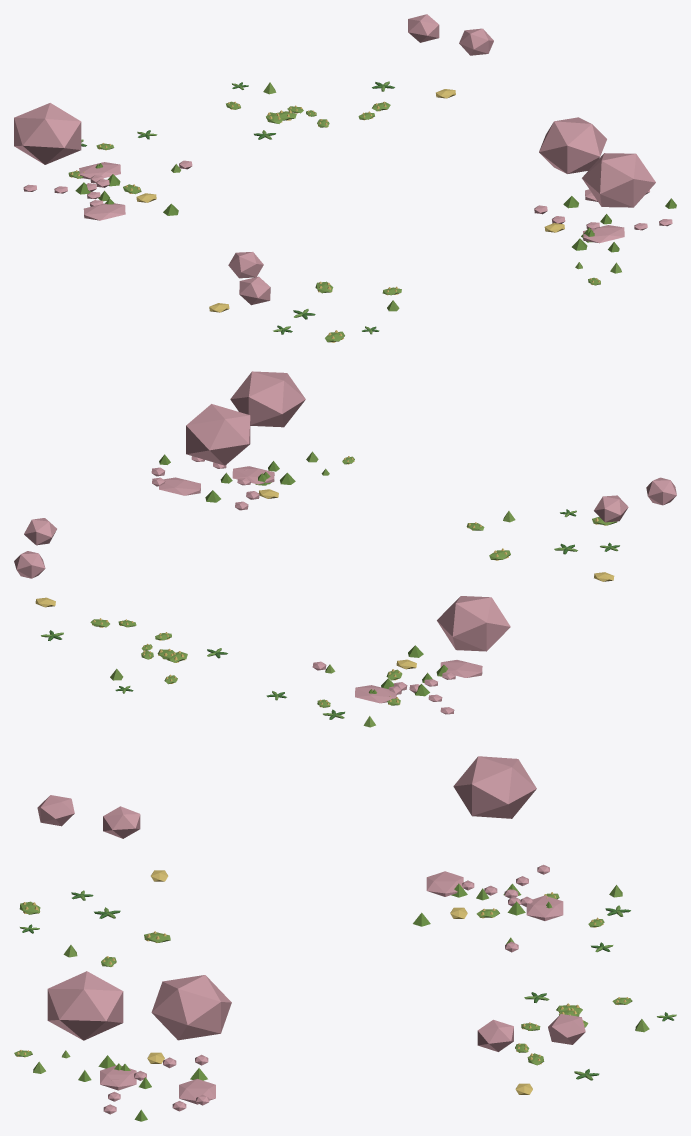
File: blossom_terrace_nonsolid_props.fbx
3 views of the same model, one above another, from view 1: azimuth 30°, elevation 25°; view 2: azimuth 150°, elevation 25°; view 3: azimuth 270°, elevation 25° (orthographic). The views are drawn at different scales.
Visible parts, largest first — view 1: chunk_blossom_terrace__PropsNonSolid; view 2: chunk_blossom_terrace__PropsNonSolid; view 3: chunk_blossom_terrace__PropsNonSolid.
Part boxes in pixels (x1=…): chunk_blossom_terrace__PropsNonSolid: x1=14, y1=14, x2=676, y2=342; chunk_blossom_terrace__PropsNonSolid: x1=14, y1=371, x2=676, y2=727; chunk_blossom_terrace__PropsNonSolid: x1=14, y1=756, x2=676, y2=1121.
Size of the model in its own units: 188 by 35.75 by 193.
